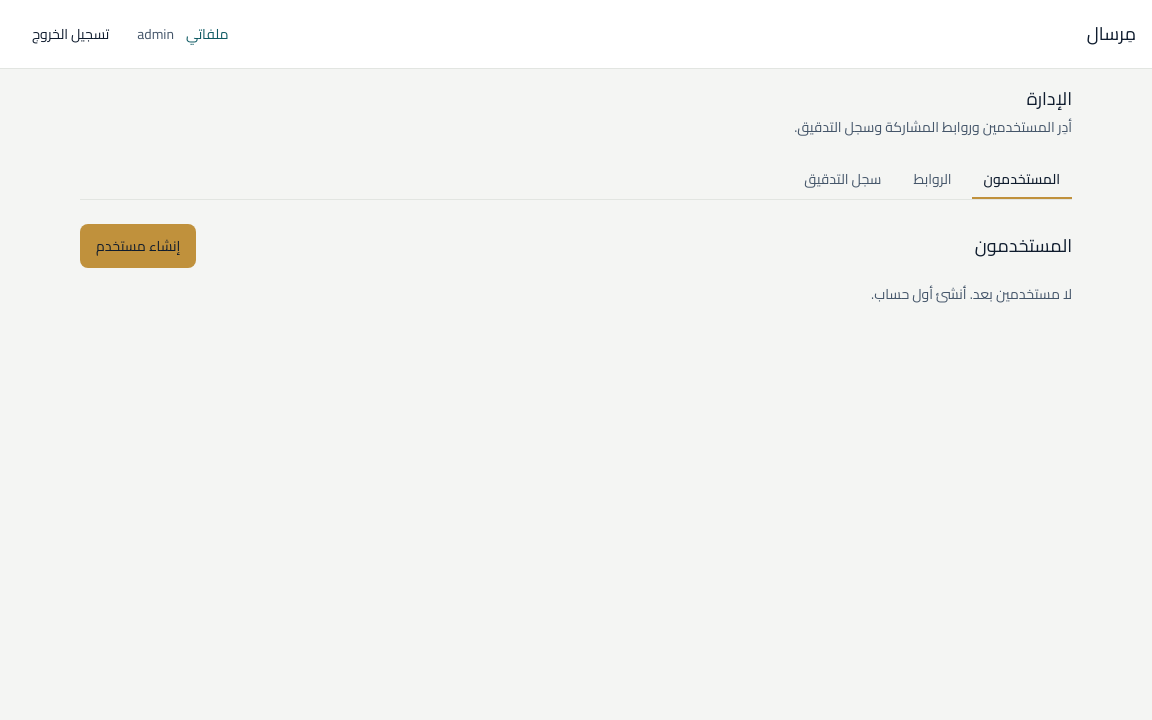
Test: Admin — CreateUserModal validation (§3.1) › an invalid username shows an inline error and does NOT POST
The width and height of the screenshot is (1152, 720).
Click the button "إنشاء مستخدم".
click(138, 246)  # box [80,224,196,268]
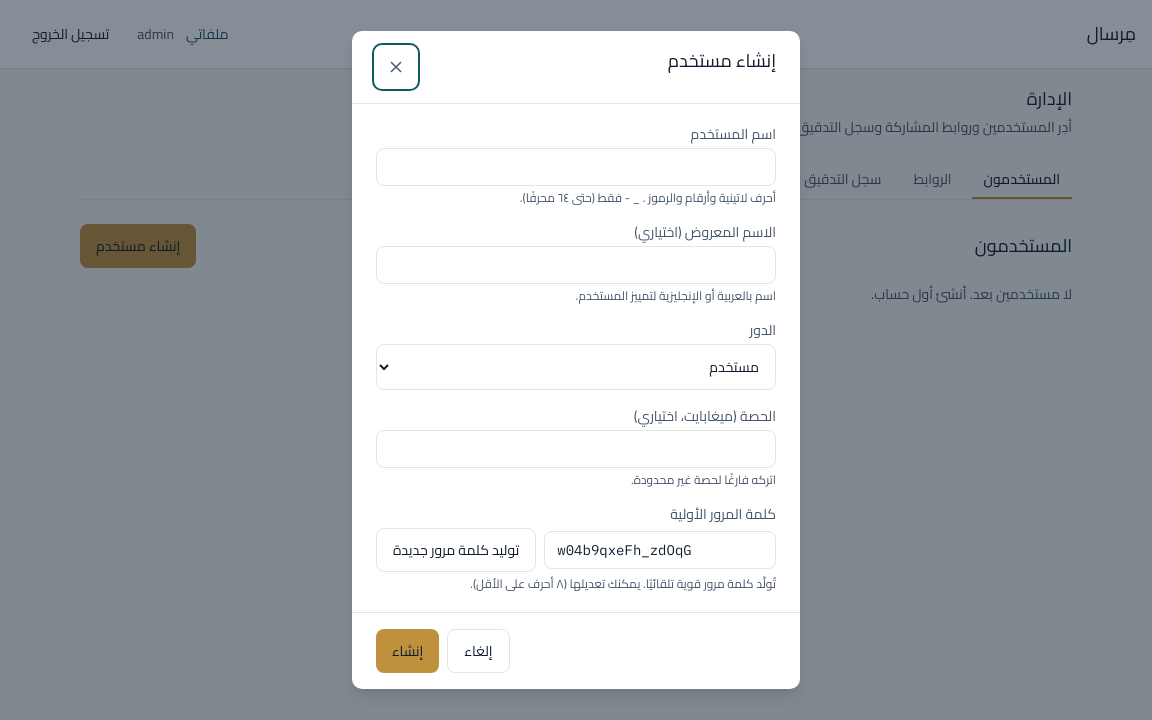
Type "bad name!!" into the field labelled "اسم المستخدم".
click(576, 167); type("bad name!!")  # box [376,148,776,186]
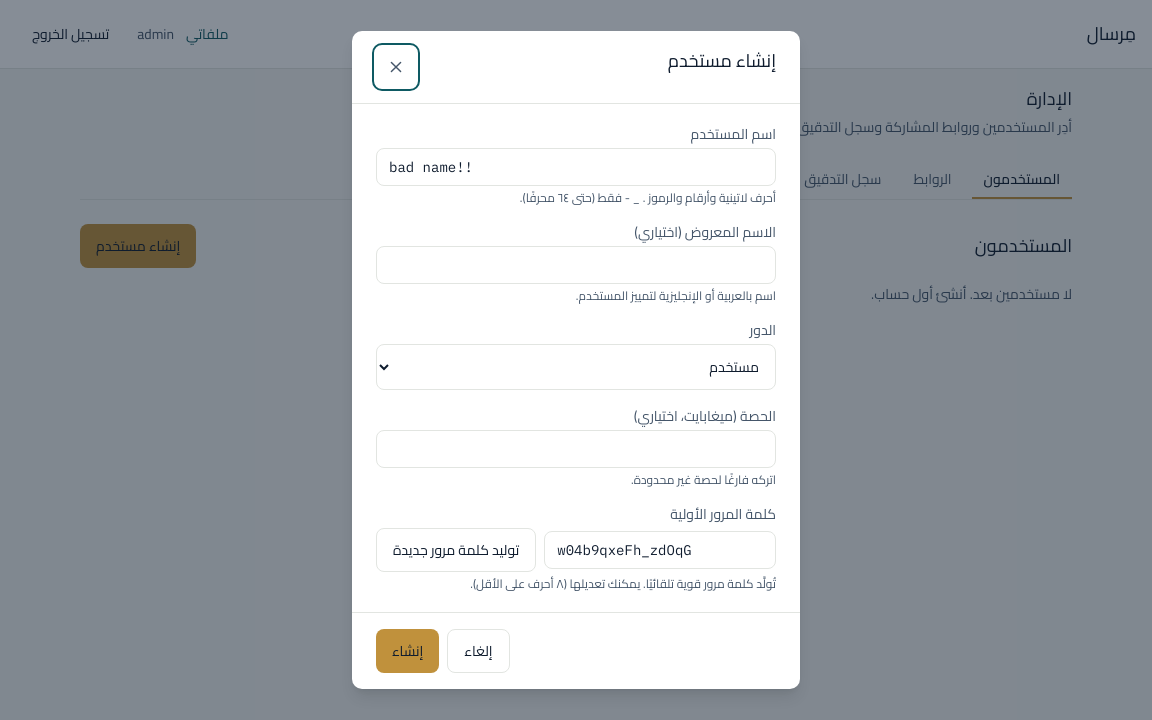
Click the button "إنشاء".
click(408, 651)  # box [376,629,439,673]
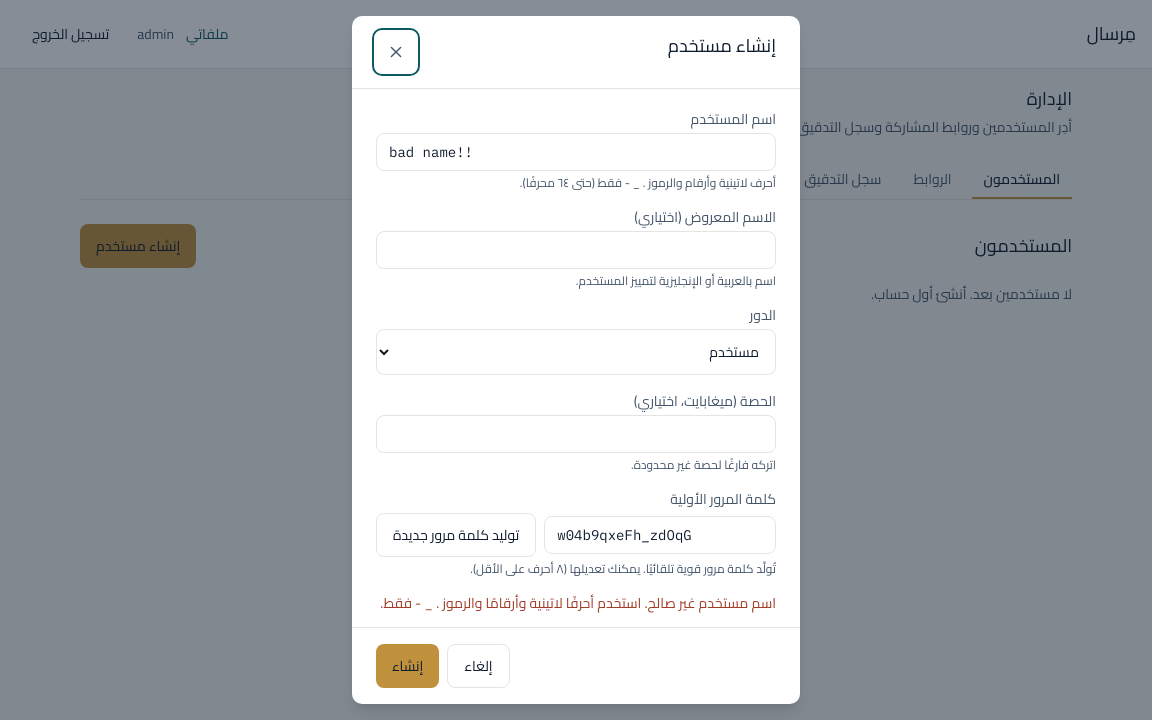
Now the text "اسم مستخدم غير صالح. استخدم أحرفًا لاتينية وأرقامًا والرموز . _ - فقط." is shown, box [376,593,776,613]
